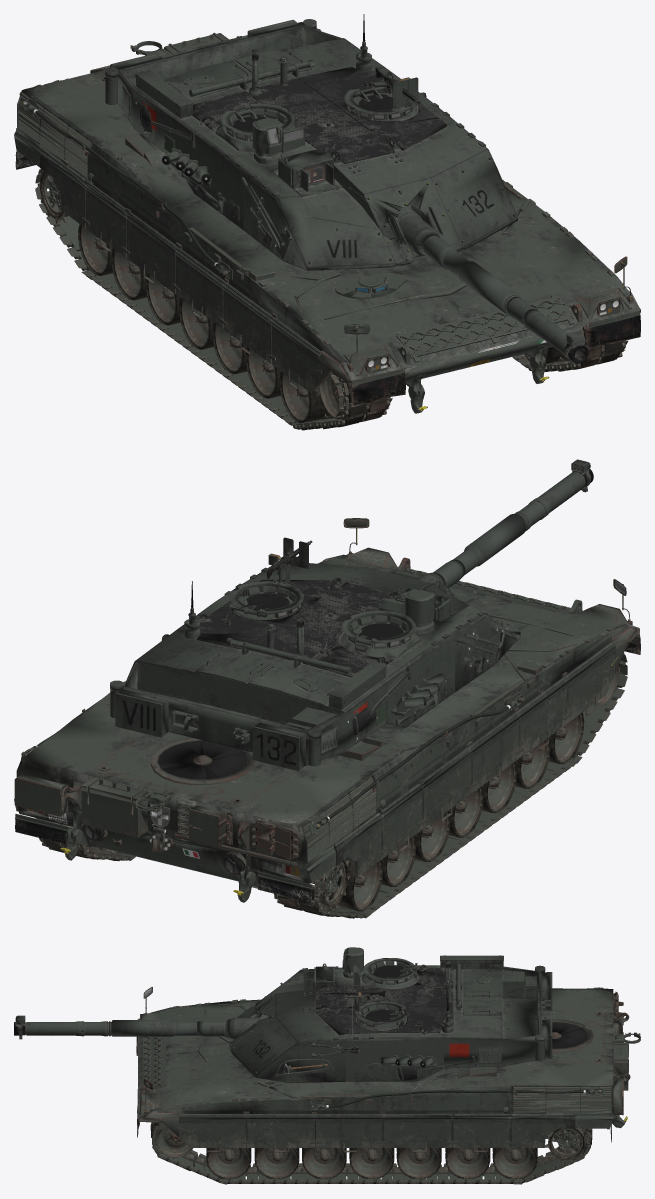
Rendered from ariete-dustymojito.glb.
3 renders of one model, top to bottom at view 1: azimuth 30°, elevation 25°; view 2: azimuth 150°, elevation 25°; view 3: azimuth 270°, elevation 25°, orthographic. The views are drawn at different scales.
Visible parts, largest first — view 1: polySurface4240, initialShadingGrouppCylinder1, polySurface4680, polySurface4671, polySurface4647; view 2: polySurface4240, polySurface4680, polySurface4671, initialShadingGrouppCylinder1, polySurface4647; view 3: polySurface4240, initialShadingGrouppCylinder1, polySurface4680, polySurface4647, polySurface4671.
Boxes of the visible parts, x1,y1,x2,y2 form: polySurface4240: [17, 22, 639, 392]; initialShadingGrouppCylinder1: [118, 25, 588, 365]; polySurface4680: [105, 14, 515, 264]; polySurface4671: [14, 28, 640, 413]; polySurface4647: [35, 169, 628, 430]; polySurface4240: [16, 554, 639, 888]; polySurface4680: [110, 537, 514, 770]; polySurface4671: [14, 518, 640, 902]; initialShadingGrouppCylinder1: [123, 459, 593, 765]; polySurface4647: [36, 653, 627, 918]; polySurface4240: [137, 988, 613, 1147]; initialShadingGrouppCylinder1: [14, 965, 541, 1083]; polySurface4680: [229, 947, 552, 1081]; polySurface4647: [150, 1122, 592, 1184]; polySurface4671: [136, 987, 640, 1152].
Size of the model in its own units: 3.84 by 2.97 by 9.67.
5 materials, 5 textured.
